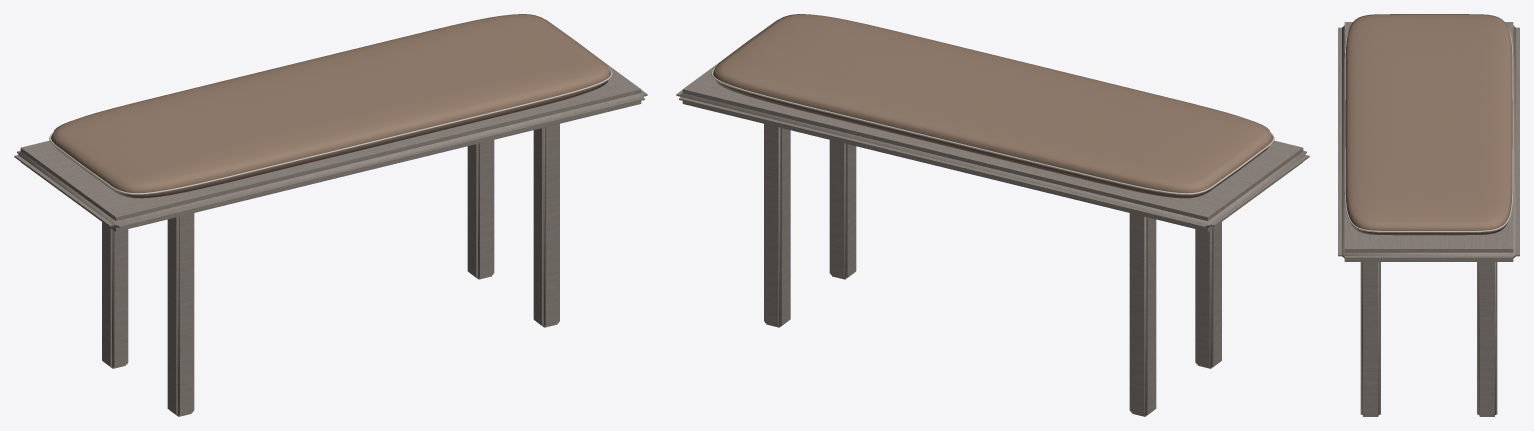
Rendered from modern.bench.gltf.
3 views of the same model, side by side, from view 1: azimuth 30°, elevation 25°; view 2: azimuth 150°, elevation 25°; view 3: azimuth 270°, elevation 25° (orthographic). The views are drawn at different scales.
Visible parts, largest first — view 1: modern.bench.rounded-top; view 2: modern.bench.rounded-top; view 3: modern.bench.rounded-top.
Boxes of the visible parts, x1=… form: modern.bench.rounded-top: x1=14, y1=14, x2=647, y2=416; modern.bench.rounded-top: x1=676, y1=14, x2=1309, y2=416; modern.bench.rounded-top: x1=1338, y1=14, x2=1519, y2=416.
Size of the model in its own units: 1.15 by 0.5075 by 0.38.
3 materials, 2 textured.
